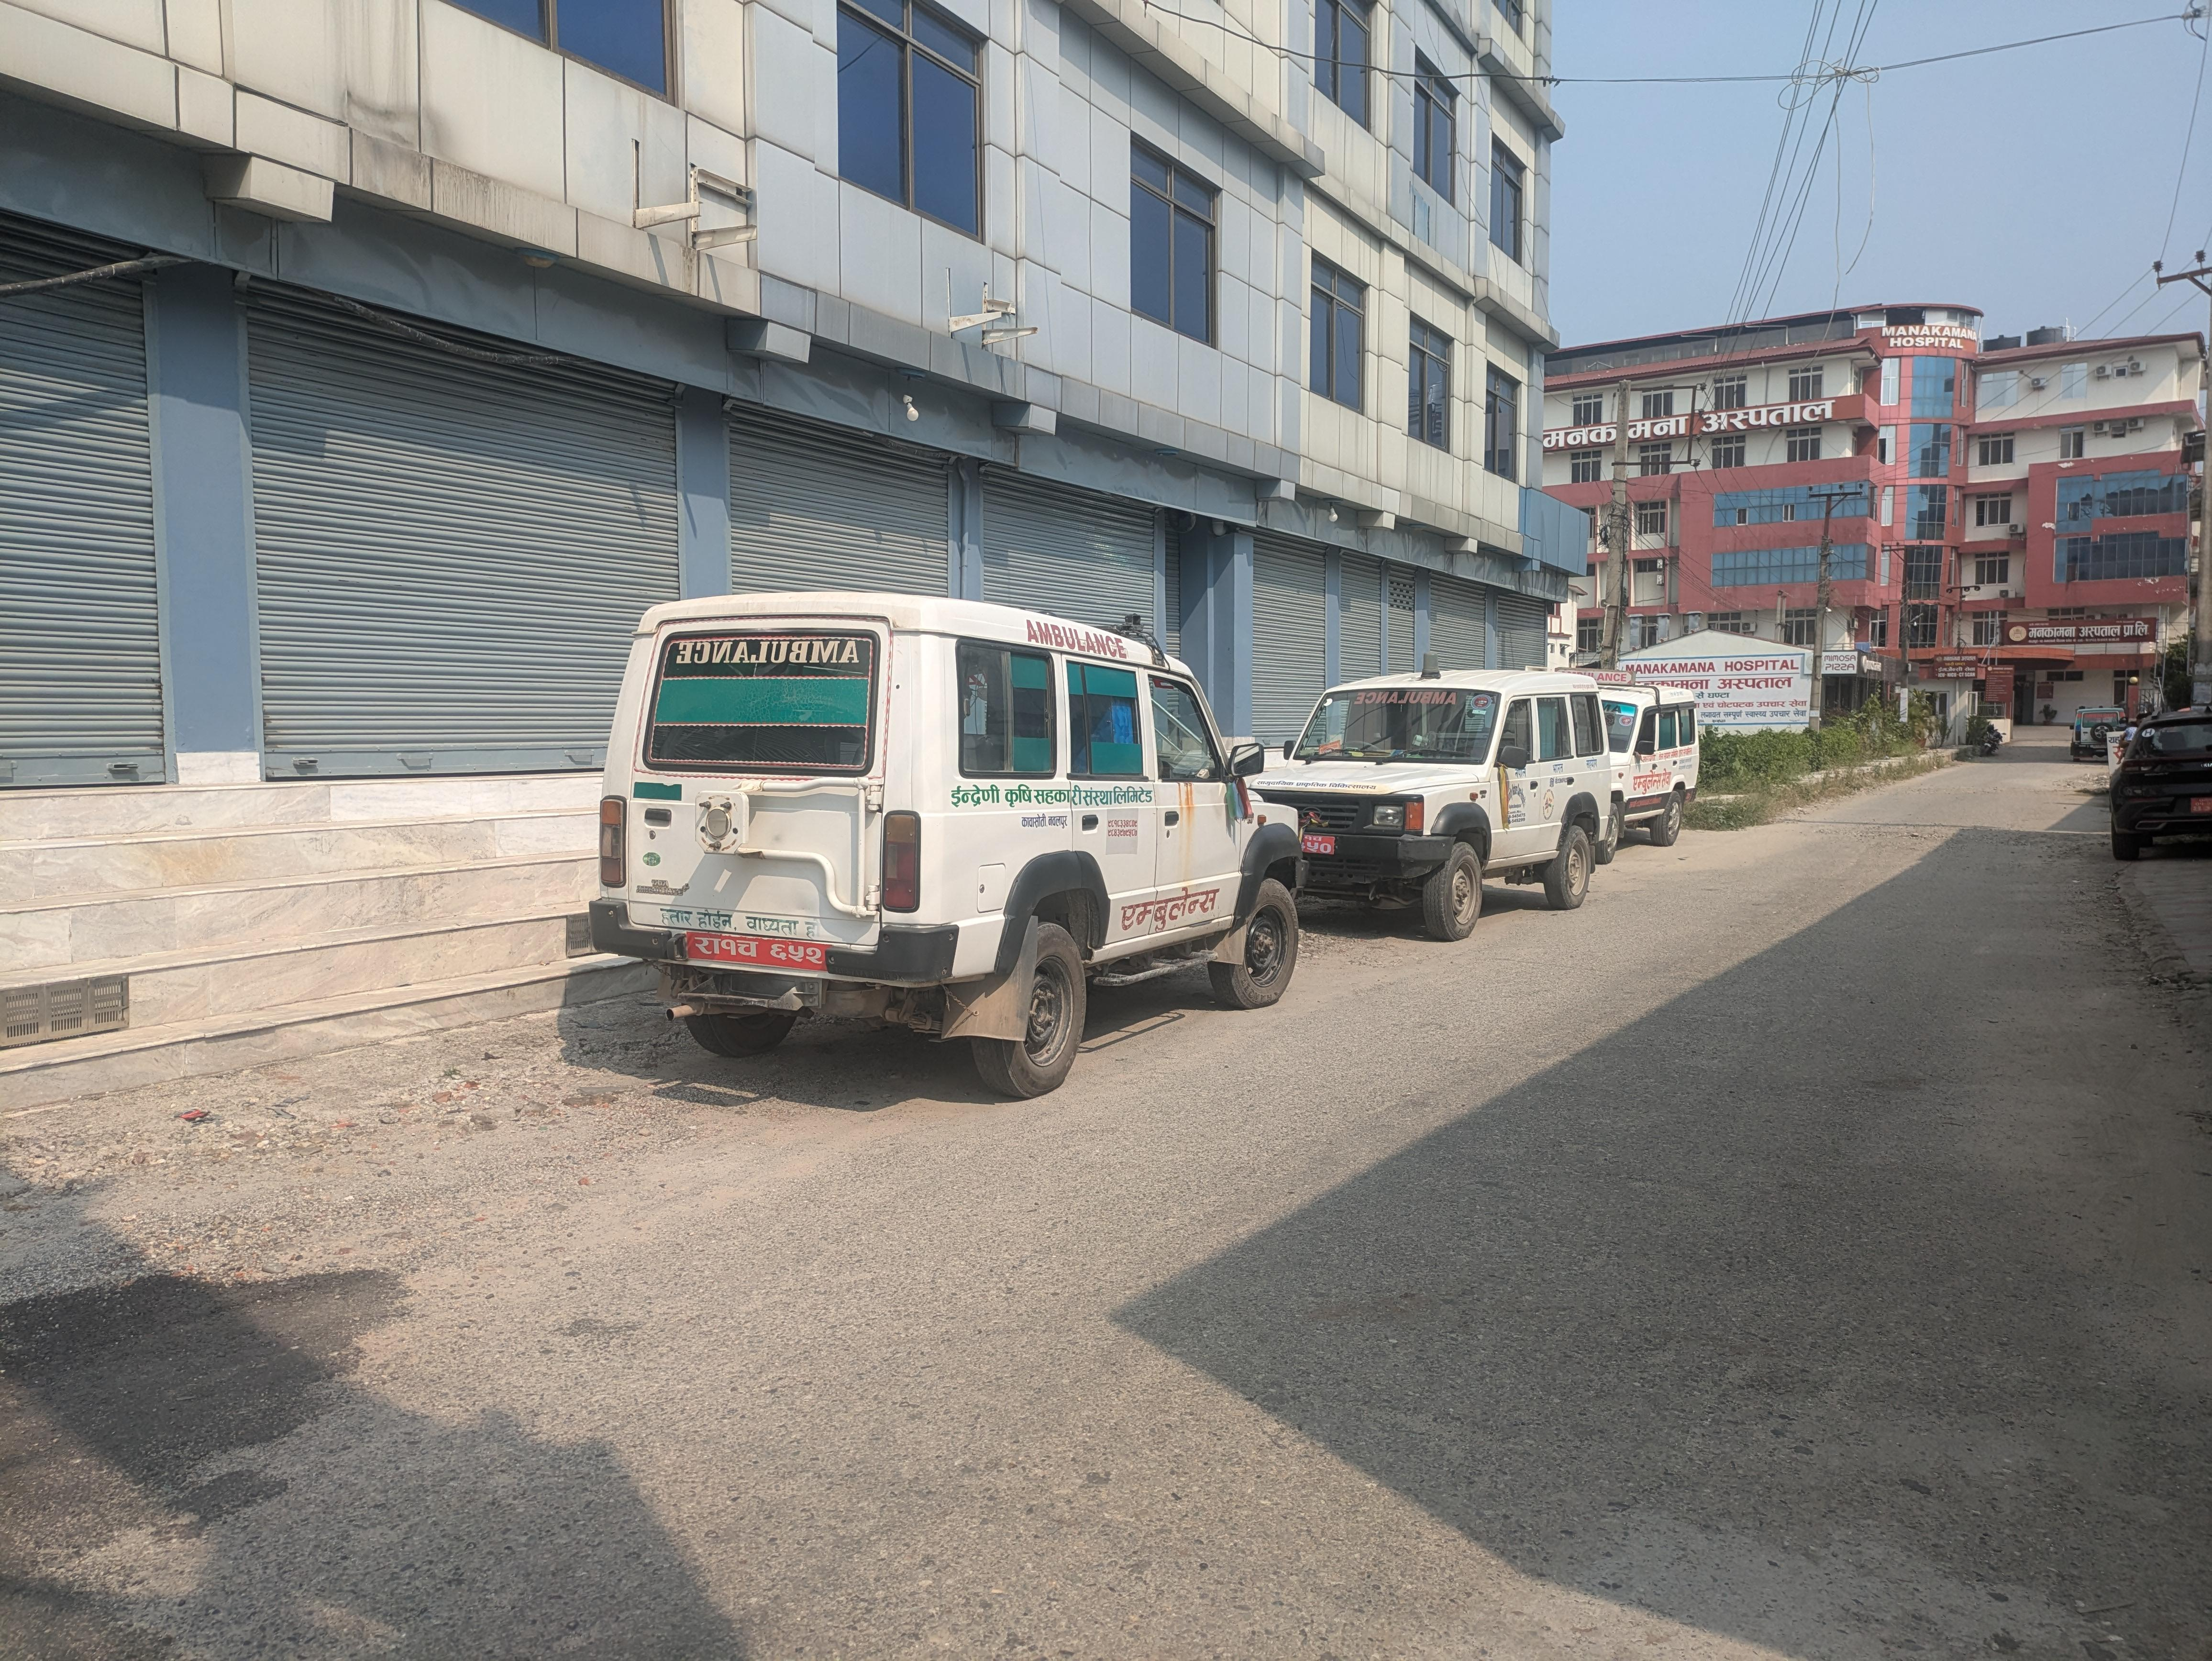ambulance: (550, 576, 1308, 1103), (1258, 633, 1631, 946), (1579, 679, 1697, 846)
car: (2102, 708, 2212, 857)
